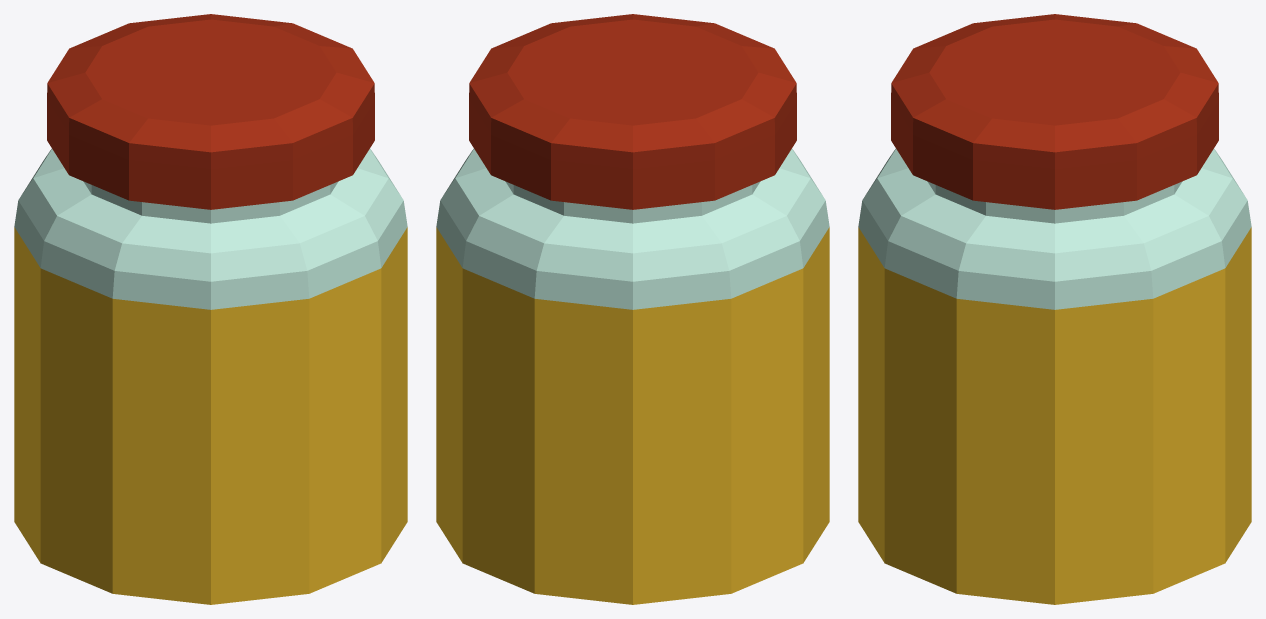
Rendered from honey_jar.glb.
The picture shows the model from 3 angles, left to right: view 1: azimuth 30°, elevation 25°; view 2: azimuth 150°, elevation 25°; view 3: azimuth 270°, elevation 25°; orthographic projection.
Parts seen in each view (by area): view 1: honey_jar; view 2: honey_jar; view 3: honey_jar.
Boxes of the visible parts, x1=… form: honey_jar: x1=14, y1=14, x2=407, y2=604; honey_jar: x1=436, y1=14, x2=829, y2=604; honey_jar: x1=858, y1=14, x2=1251, y2=604.
Size of the model in its own units: 1.19 by 1.5 by 1.19.
1 material, 1 textured.
